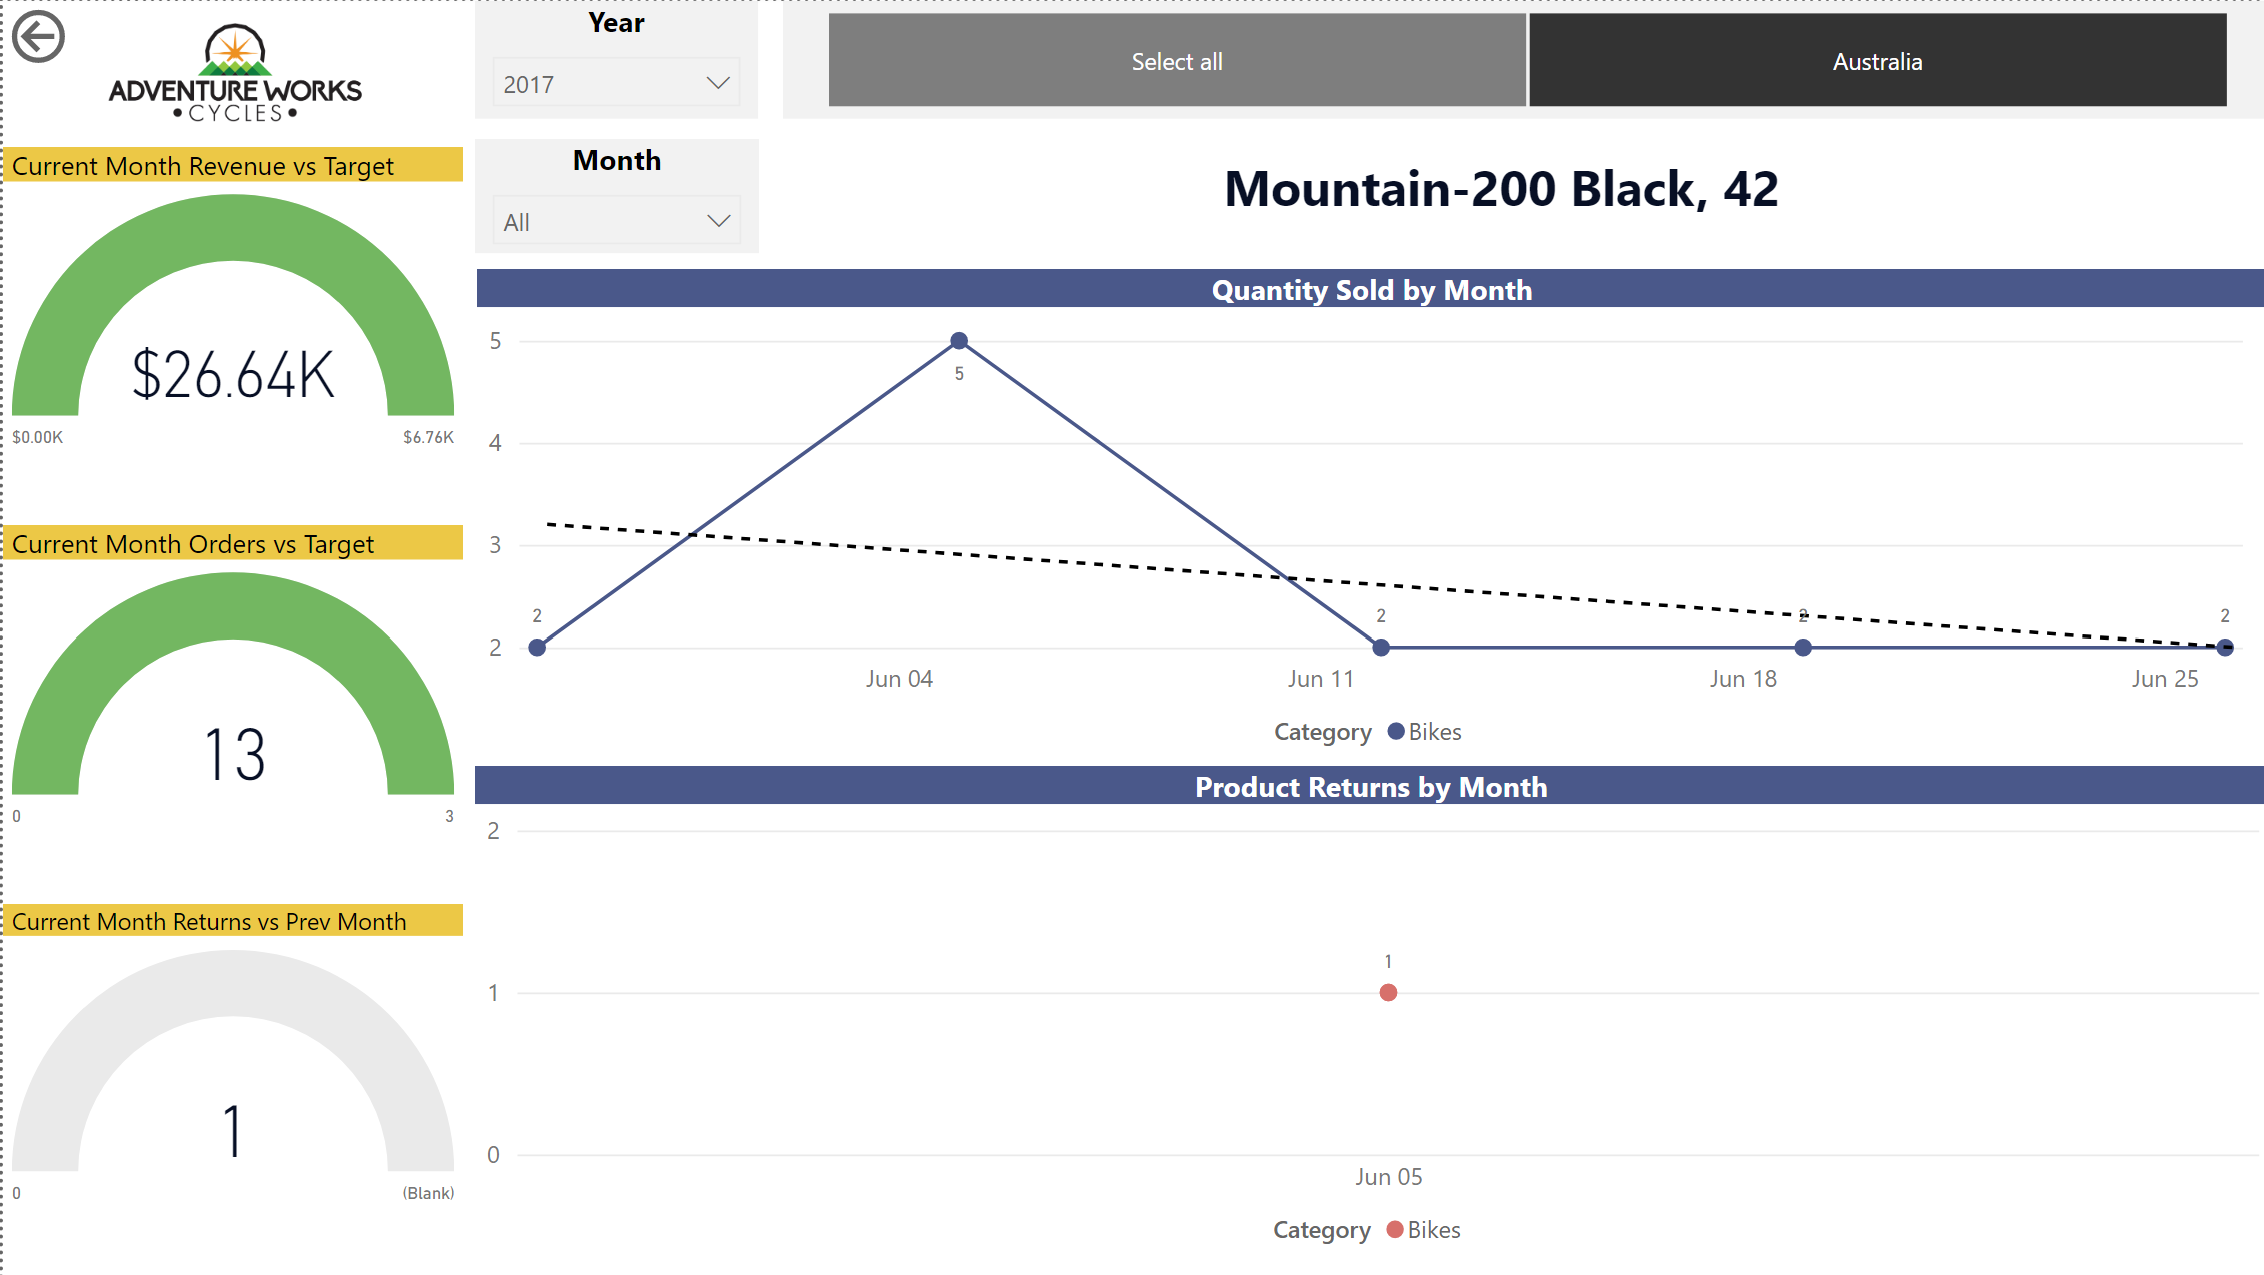

Layout of this report page (visuals, bound fields, positions):
{"tool":"powerbi","page":{"name":"Product Details","canvas":[1280,720],"ordinal":1},"visuals":[{"type":"image","box":[0,2.9,261.8,74.2],"z":0},{"type":"actionButton","box":[0,0,100,40],"z":1000},{"type":"slicer","title":"Country","fields":{"Values":["AW_Territories_Lookup.Country"]},"box":[440.8,0,839.8,66.7],"z":2000},{"type":"lineChart","title":"Quantity Sold by Month","fields":{"Category":["AW_Calendar_Lookup.Start of Week"],"Series":["AW_Product_Category_Lookup.CategoryName"],"Y":["AW_Sales.Quantity Sold"]},"box":[267.9,151.7,1012.1,279.7],"z":3000},{"type":"lineChart","title":"Product Returns by Month","fields":{"Category":["AW_Calendar_Lookup.Start of Week"],"Series":["AW_Product_Category_Lookup.CategoryName"],"Y":["AW_Returns.Total Returns"]},"box":[266.7,431.4,1013.3,280.9],"z":4000},{"type":"gauge","title":"Current Month Revenue vs Target","fields":{"Y":["AW_Sales.Total Revenue"],"MaxValue":["AW_Sales.Revenue Target"]},"box":[0,82.9,260,180],"z":6000},{"type":"gauge","title":"Current Month Orders vs Target","fields":{"MaxValue":["AW_Sales.Order Target"],"Y":["AW_Sales.Total Orders"]},"box":[0,296.4,260,180],"z":7000},{"type":"gauge","title":"Current Month Returns vs Prev Month","fields":{"MaxValue":["AW_Returns.Prev Month Returns"],"Y":["AW_Returns.Total Returns"]},"box":[0,510,260,180],"z":8000},{"type":"slicer","title":"Year","fields":{"Values":["AW_Calendar_Lookup.Year"]},"box":[266.7,0,160,66.4],"z":9000},{"type":"slicer","title":"Month","fields":{"Values":["AW_Calendar_Lookup.Month Name"]},"box":[266.8,78,160.5,64.4],"z":10000},{"type":"card","title":"Top Product","fields":{"Values":["Min(AW_Product_Lookup.ProductName)"]},"box":[440.8,76.9,838.7,61],"z":11000}]}

Visuals, with their boxes in screenshot pixels (x1, y1, x2, y2), scaled from the page's 1280x720 canvas onto the 2264x1275 screenshot:
image: 0:5:463:137
actionButton: 0:0:177:71
"Country" slicer: 780:0:2263:118
"Quantity Sold by Month" lineChart: 474:269:2263:764
"Product Returns by Month" lineChart: 472:764:2263:1261
"Current Month Revenue vs Target" gauge: 0:147:460:466
"Current Month Orders vs Target" gauge: 0:525:460:844
"Current Month Returns vs Prev Month" gauge: 0:903:460:1222
"Year" slicer: 472:0:755:118
"Month" slicer: 472:138:756:252
"Top Product" card: 780:136:2263:244
